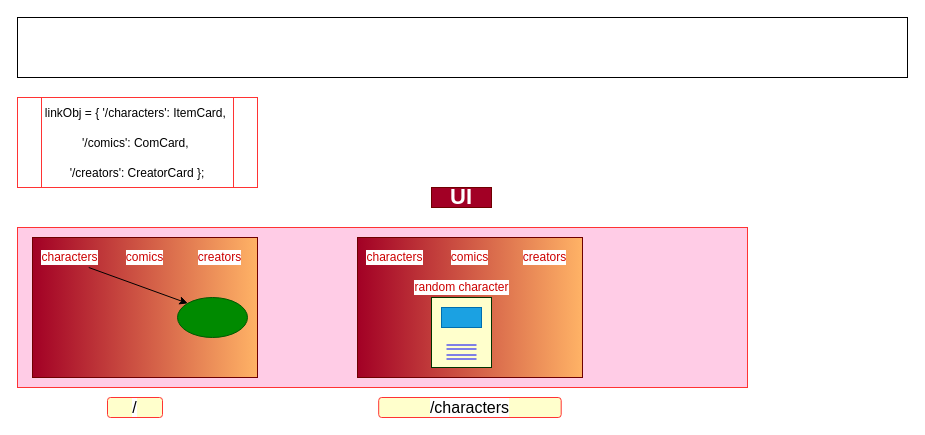
Some shapes in this 925 by 435 pixel diagram are drawn without their labels. Here are the shapes that lost their labels. From the top down, the centre of each, then its label:
point 462,47: RouterService
point 212,317: click
